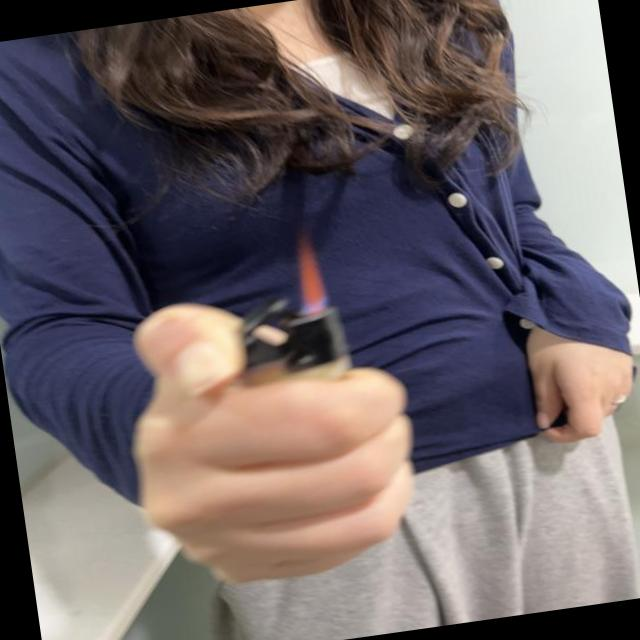Fire: (288, 234, 332, 316)
